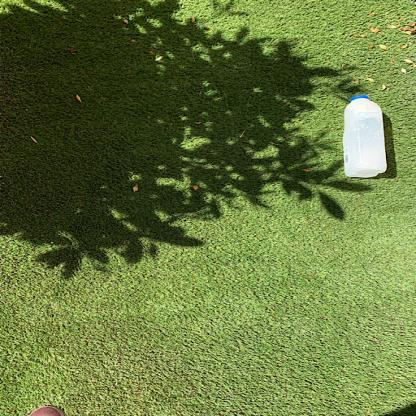trash: (340, 92, 390, 182)
